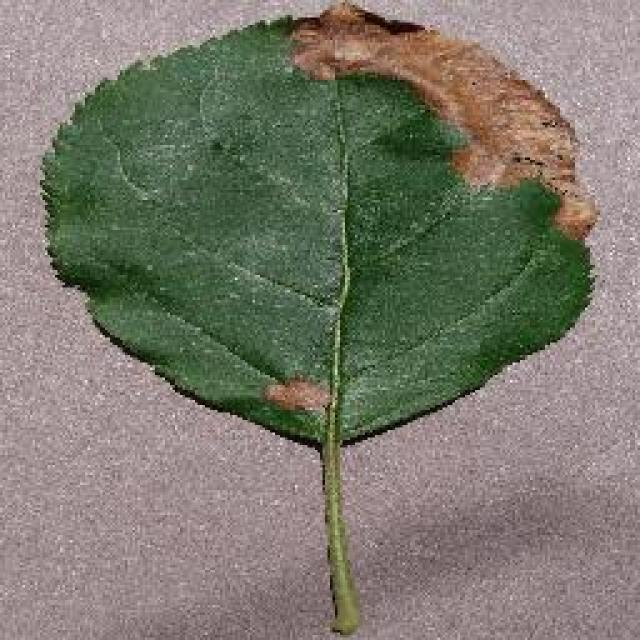Black_rot: (38, 0, 598, 635)
